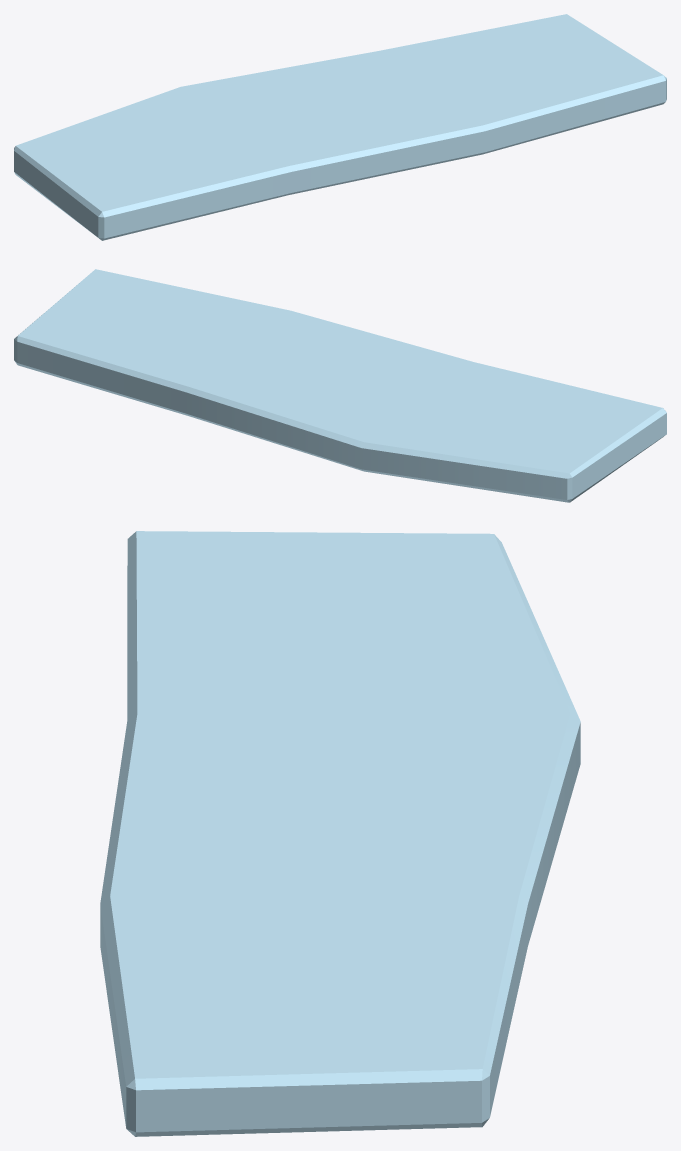
File: Step2.fbx
The picture shows the model from 3 angles, top to bottom: view 1: azimuth 30°, elevation 25°; view 2: azimuth 150°, elevation 25°; view 3: azimuth 270°, elevation 25°; orthographic projection. The views are drawn at different scales.
Visible parts, largest first — view 1: Step2_LOD0; view 2: Step2_LOD0; view 3: Step2_LOD0.
Part boxes in pixels (x1,y1,x2,y2): Step2_LOD0: (14, 14, 666, 240); Step2_LOD0: (14, 269, 666, 502); Step2_LOD0: (100, 531, 580, 1136).
Size of what is drawn, in the model's own units: 741 by 36.15 by 271.
